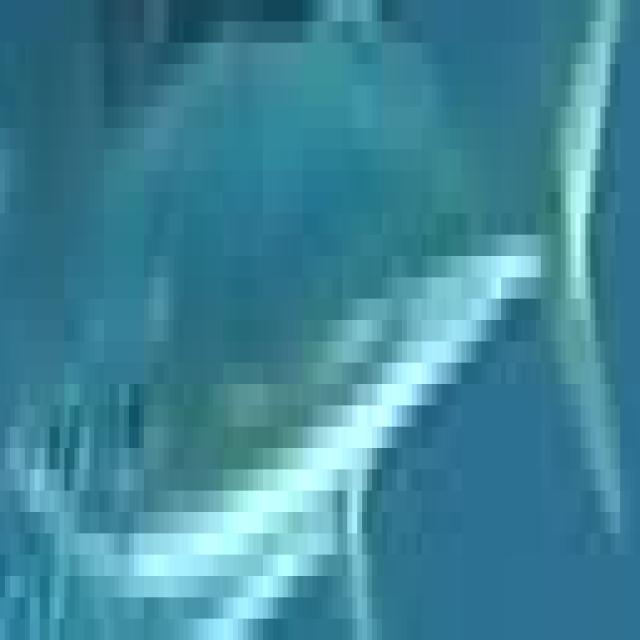fish: (0, 0, 635, 619)
